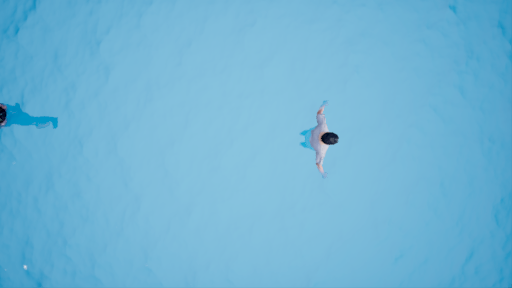person: (286, 97, 343, 175)
